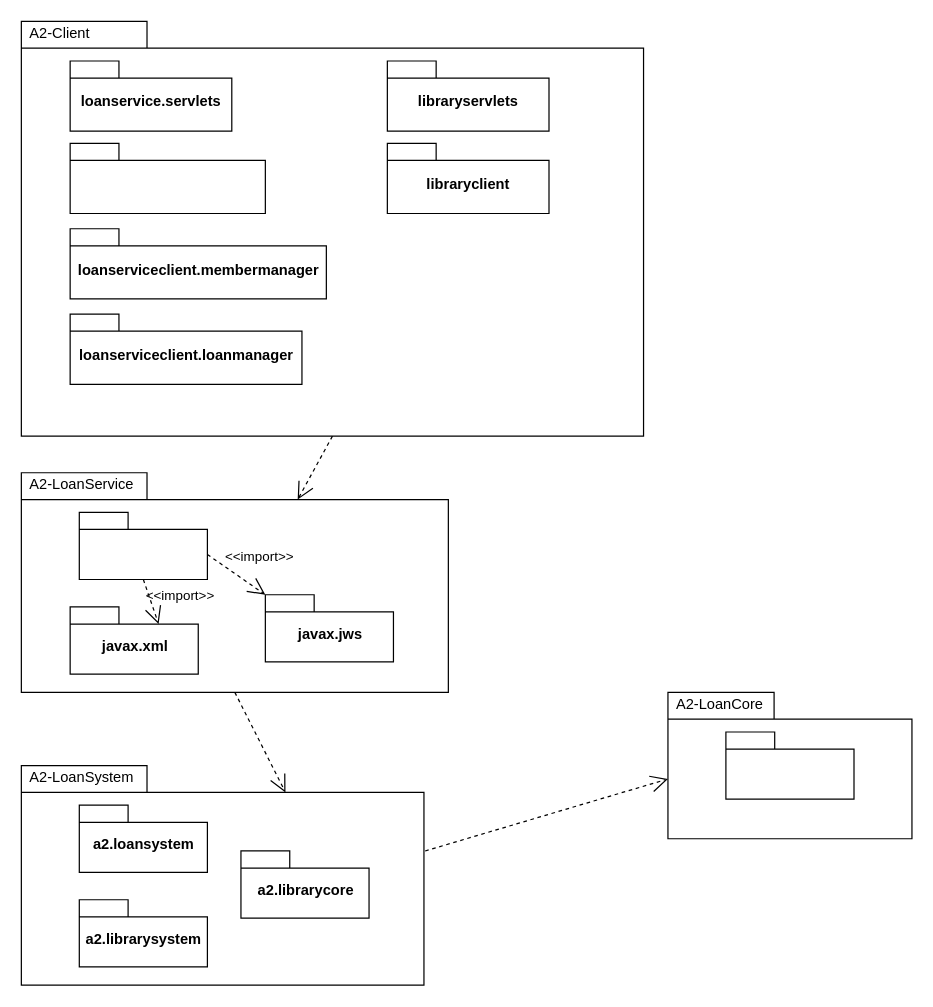
This 933x1007 diagram has some shape labels left out. The shapes that lost their labels are listed below. From the top down, each one's centre as x and y in pixels, then its label:
At (167,178): "loanserviceclient.library".
At (142,545): "a2.loanservice".
At (789,765): "a2.loancore".
